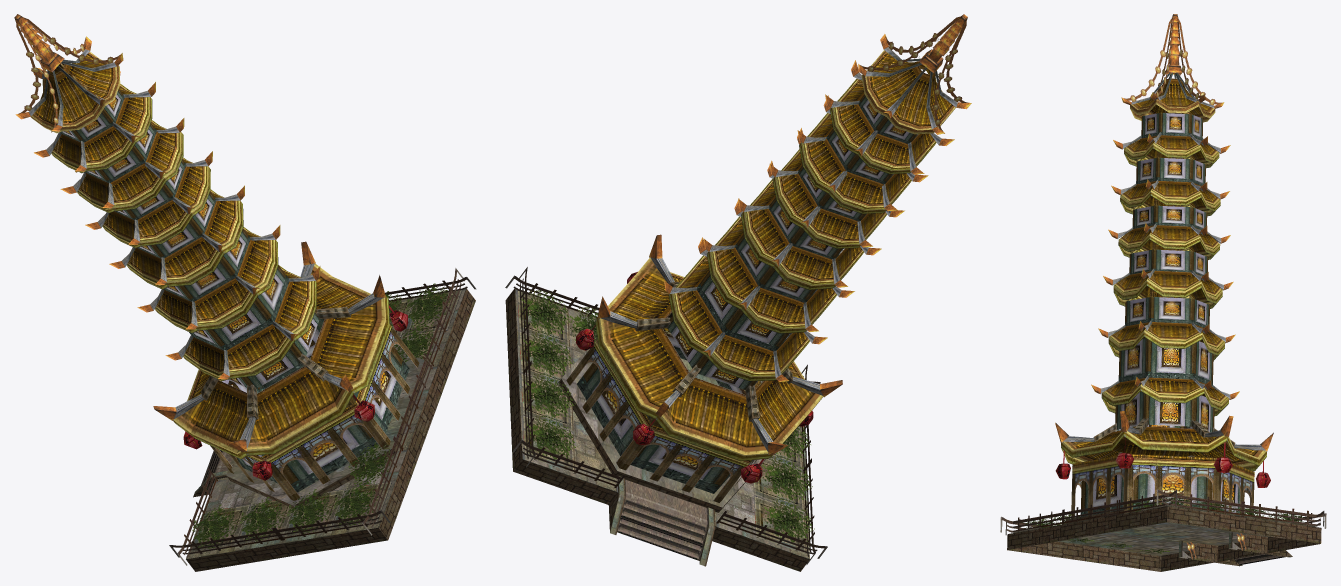
Rendered from porcelain_tower.fbx.
3 renders of one model, left to right at view 1: azimuth 30°, elevation 25°; view 2: azimuth 150°, elevation 25°; view 3: azimuth 270°, elevation 25°, orthographic. The views are drawn at different scales.
Parts seen in each view (by area): view 1: Object01, Object02; view 2: Object01, Object02; view 3: Object01, Object02.
Part boxes in pixels (x1,y1,x2,y2): Object01: (14,14,476,571); Object02: (30,52,389,459); Object01: (505,14,971,571); Object02: (595,50,955,460); Object01: (1000,14,1326,571); Object02: (1061,78,1266,471).
Size of the model in its own units: 15.27 by 11.43 by 18.96.
Materials: 1 (1 with a texture image).
